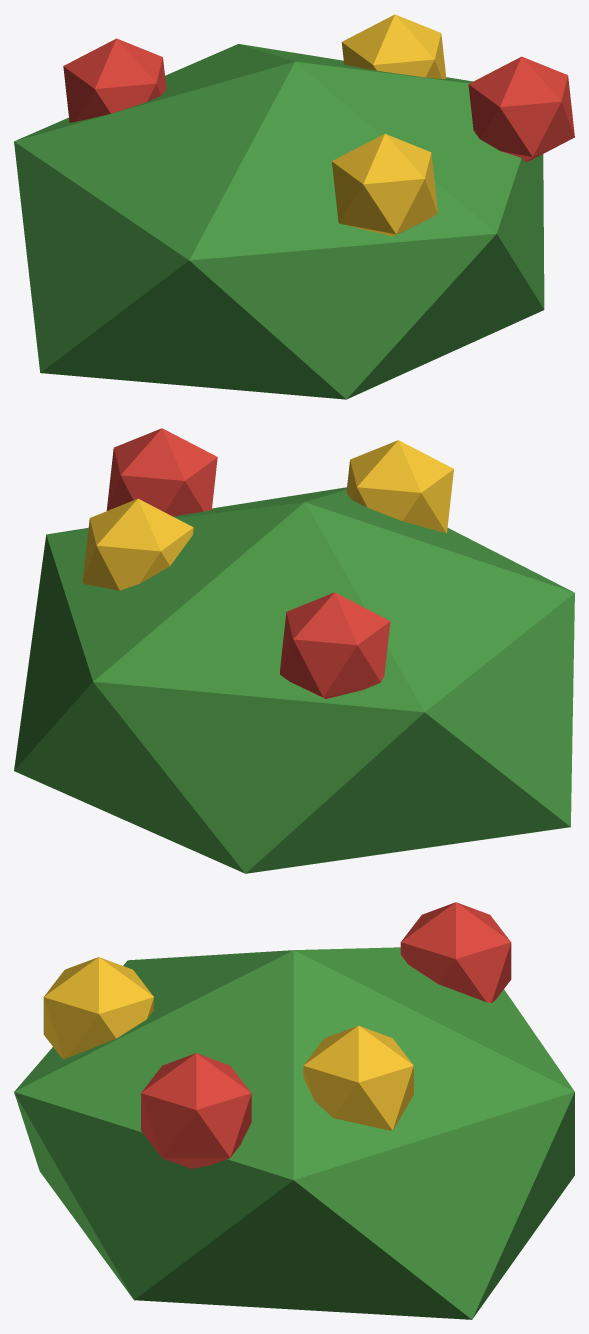
File: bush_flowers.glb
The picture shows the model from 3 angles, top to bottom: view 1: azimuth 30°, elevation 25°; view 2: azimuth 150°, elevation 25°; view 3: azimuth 270°, elevation 25°; orthographic projection. The views are drawn at different scales.
Parts seen in each view (by area): view 1: bush_flowers; view 2: bush_flowers; view 3: bush_flowers.
Boxes of the visible parts, <box> form: bush_flowers: <box>14,14,574,399</box>; bush_flowers: <box>14,428,574,873</box>; bush_flowers: <box>14,902,574,1319</box>.
Bounding box in the file's own units: 0.1938 × 0.1206 × 0.1728.
